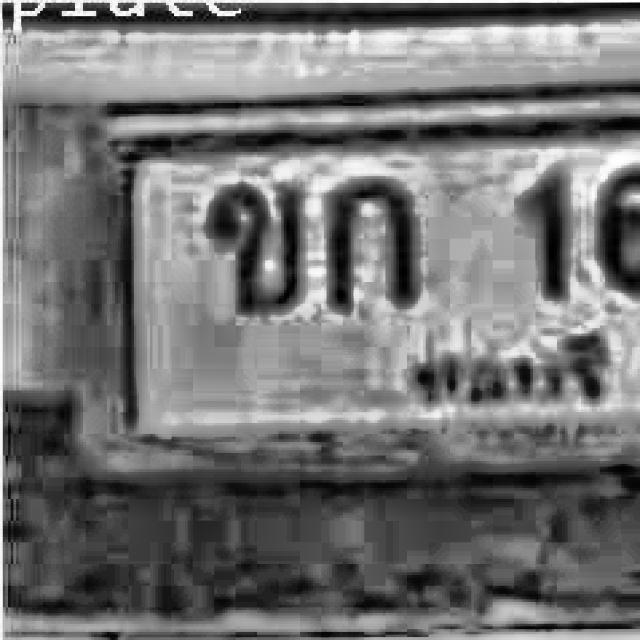license-plate: (77, 94, 640, 467)
